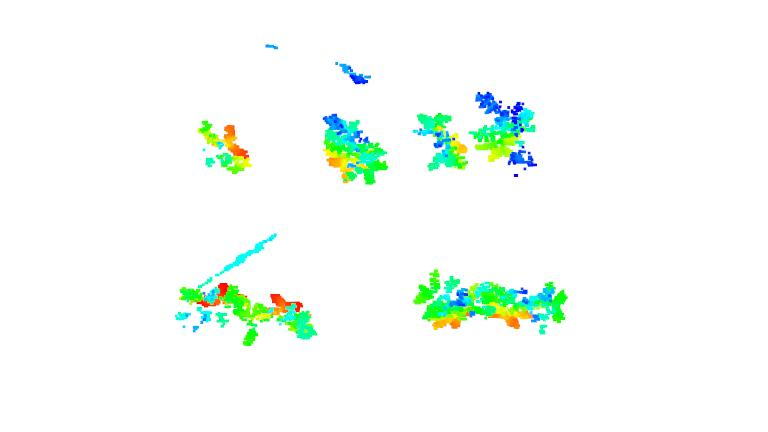chickpea: (470, 95, 539, 171), (474, 275, 570, 329), (320, 114, 389, 184), (181, 278, 253, 343), (412, 269, 477, 331), (245, 289, 316, 340), (411, 111, 469, 171), (199, 120, 251, 173)
